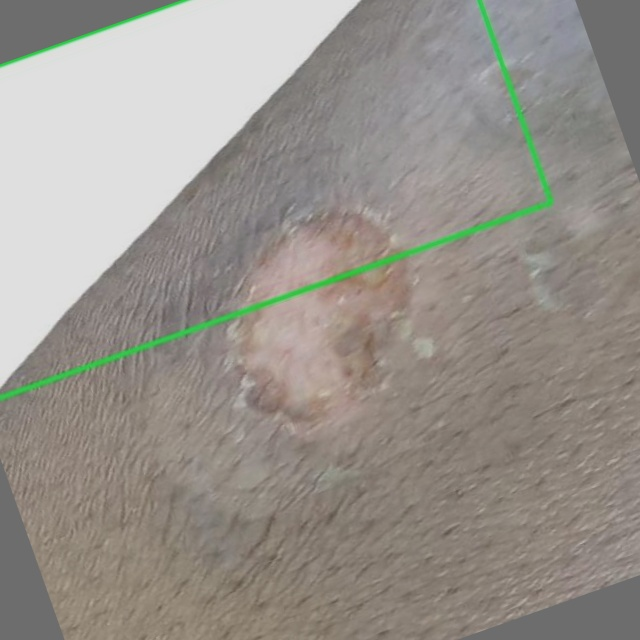Contact Dermatitis: (0, 0, 551, 397)
